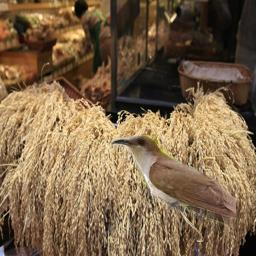Cuckoo: (108, 135, 236, 229)
